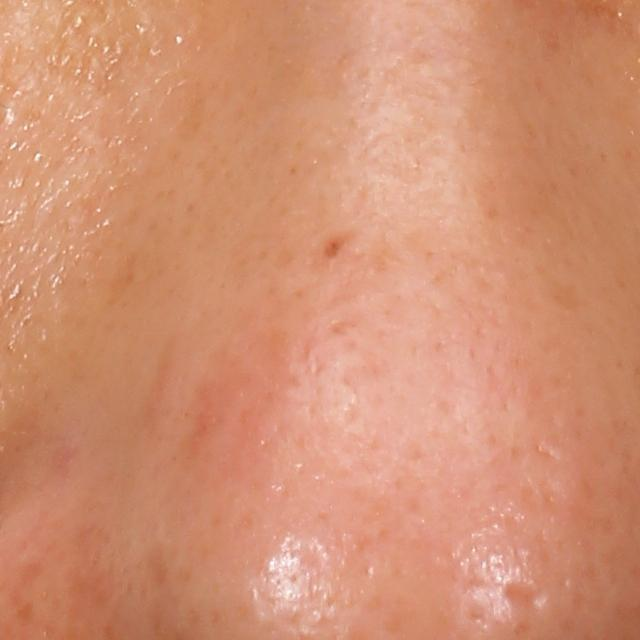atrophic_scar: (501, 576, 560, 620)
nevus: (325, 233, 355, 261)
